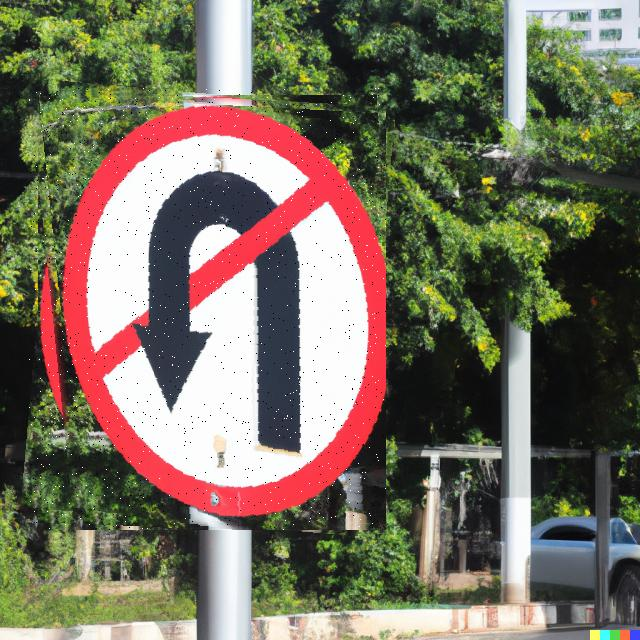no u turn: (29, 88, 386, 530)
